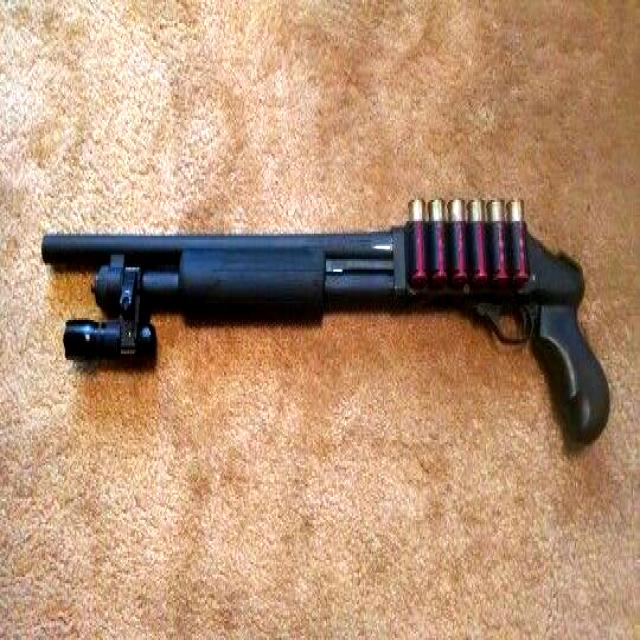shotgun: (29, 195, 616, 460)
